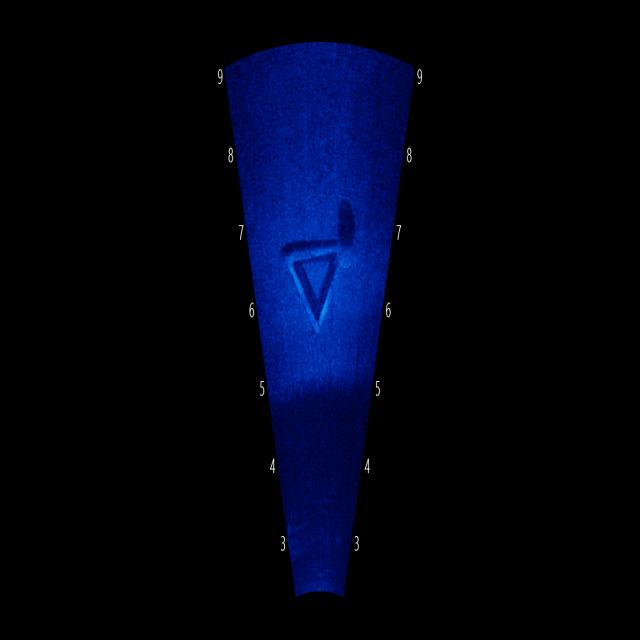triangle: (272, 193, 362, 354)
